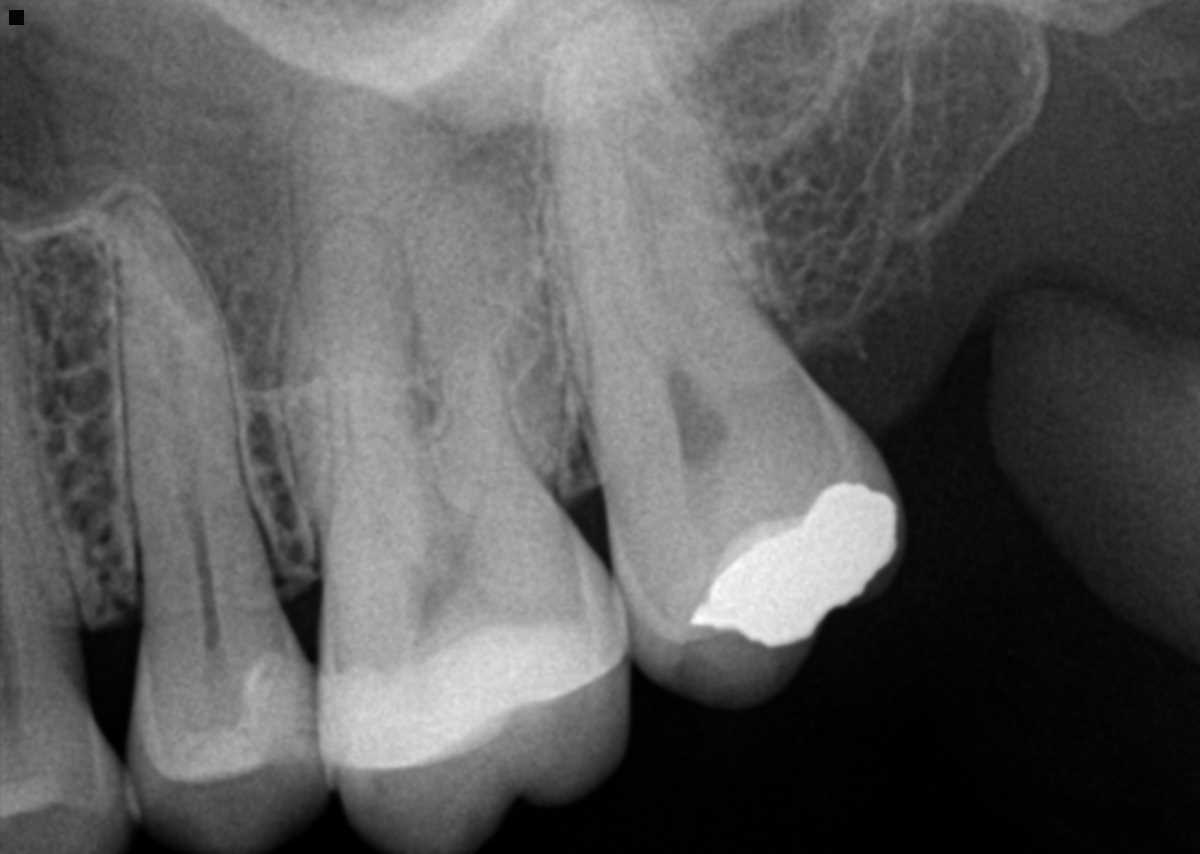Distal Root: (635, 20, 779, 386), (409, 170, 566, 497)
Main Canal: (174, 411, 213, 587)
Main Root: (109, 198, 279, 603), (0, 260, 79, 615)
Mesial Canal: (593, 121, 681, 381)
Mesial Root: (532, 11, 681, 462), (270, 214, 434, 533)
Palatal Root: (287, 60, 570, 660)
